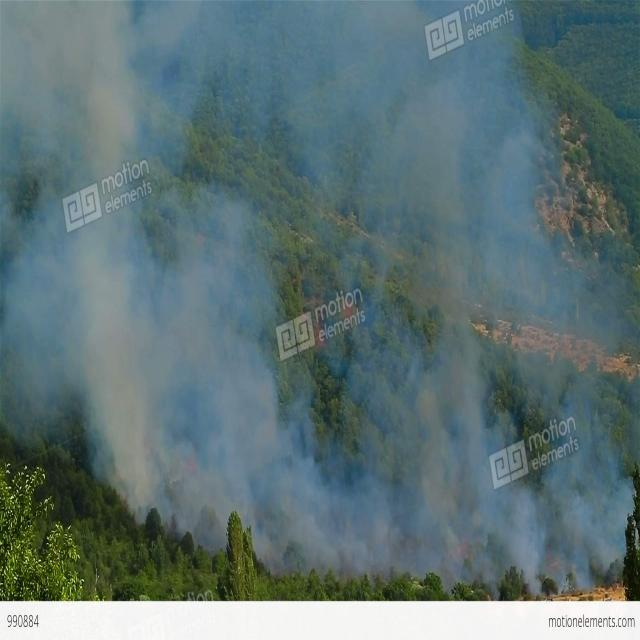Smoke: (6, 0, 640, 532)
